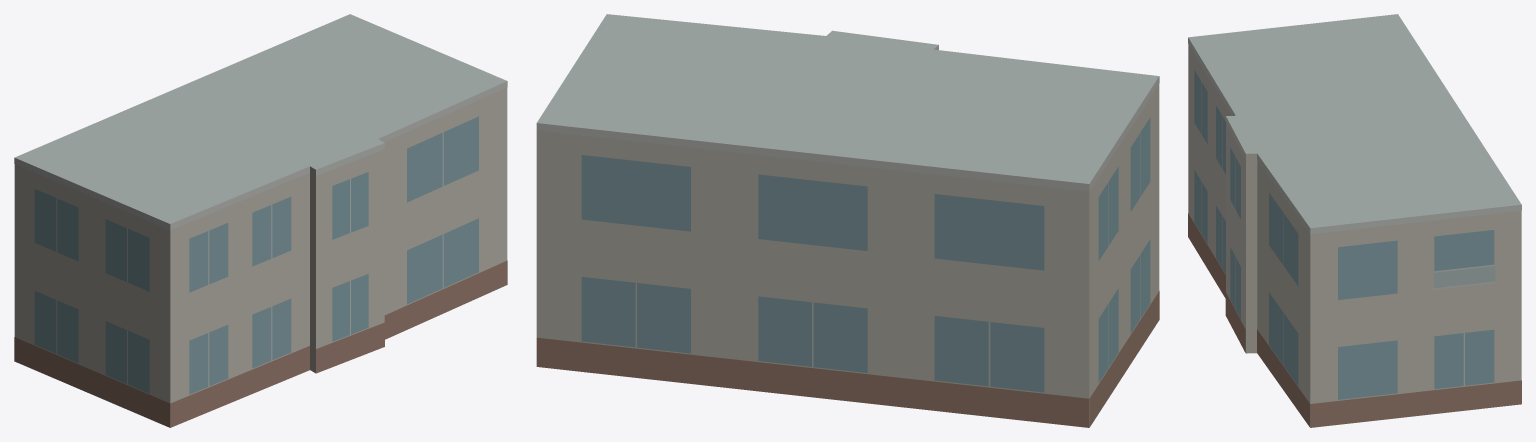
Rendered from survey-upis-32616232.glb.
The picture shows the model from 3 angles, left to right: view 1: azimuth 30°, elevation 25°; view 2: azimuth 150°, elevation 25°; view 3: azimuth 270°, elevation 25°; orthographic projection. The views are drawn at different scales.
Parts seen in each view (by area): view 1: survey-upis-32616232.tmp; view 2: survey-upis-32616232.tmp; view 3: survey-upis-32616232.tmp.
Boxes of the visible parts, <box> form: survey-upis-32616232.tmp: <box>14,14,507,427</box>; survey-upis-32616232.tmp: <box>536,14,1159,427</box>; survey-upis-32616232.tmp: <box>1188,14,1521,427</box>.
Size of the model in its own units: 18.31 by 7.95 by 12.05.
